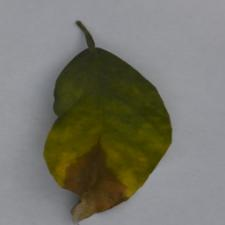Black: (48, 124, 134, 221)
